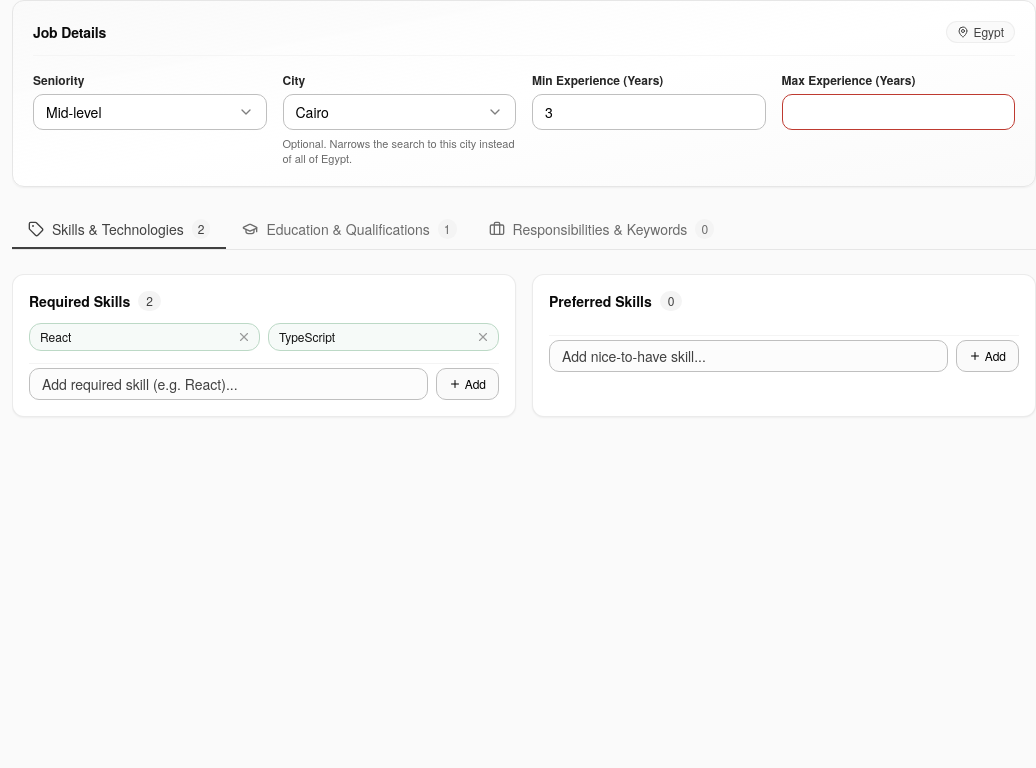
Test: RequirementsEditor › shows other kinds on their tab
Click the button "Education & Qualifications 1". click: (349, 230)
box: [226,211,472,249]
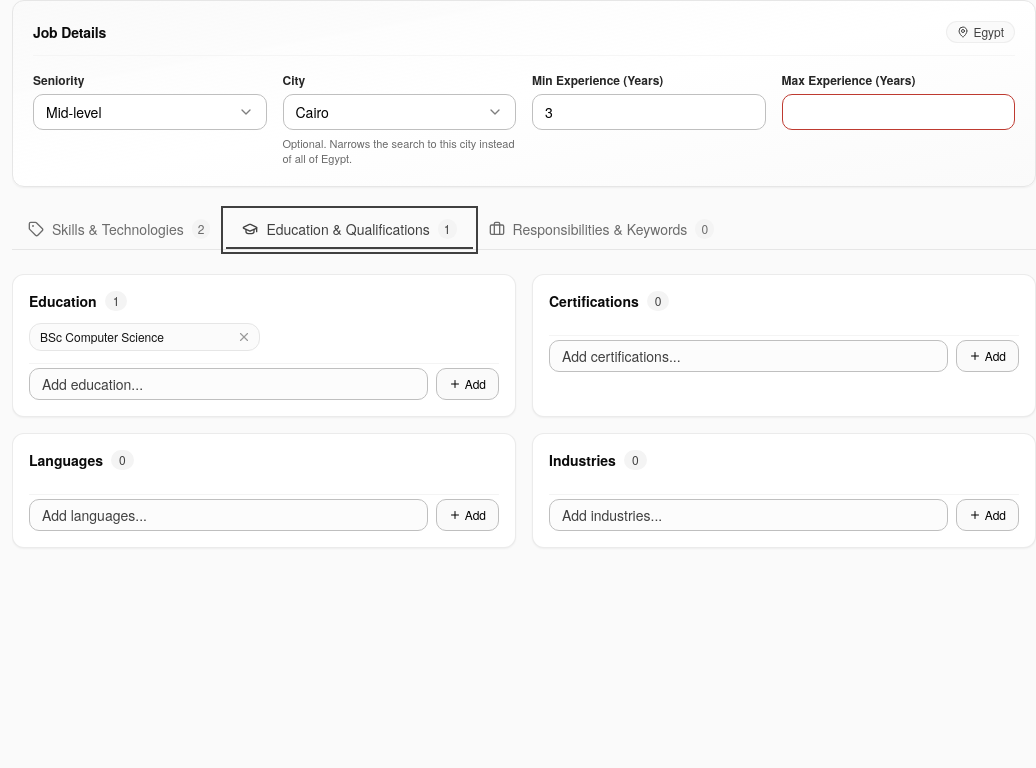
Expected: the field with test id "requirements-education-item-0" holds "BSc Computer Science", [40,329,229,345]
